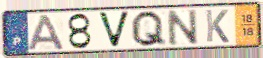8: (67, 12, 93, 50)
A: (26, 13, 67, 51)
K: (204, 9, 231, 44)
N: (166, 7, 201, 47)
Q: (130, 9, 169, 48)
V: (96, 10, 132, 50)
